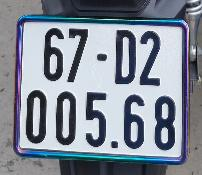0: (51, 89, 78, 149), (24, 85, 47, 146)
2: (139, 27, 166, 87)
5: (81, 87, 109, 149)
6: (117, 90, 147, 150), (38, 25, 66, 83)
7: (66, 22, 92, 88)
8: (153, 93, 180, 153)
D: (112, 27, 138, 90)
